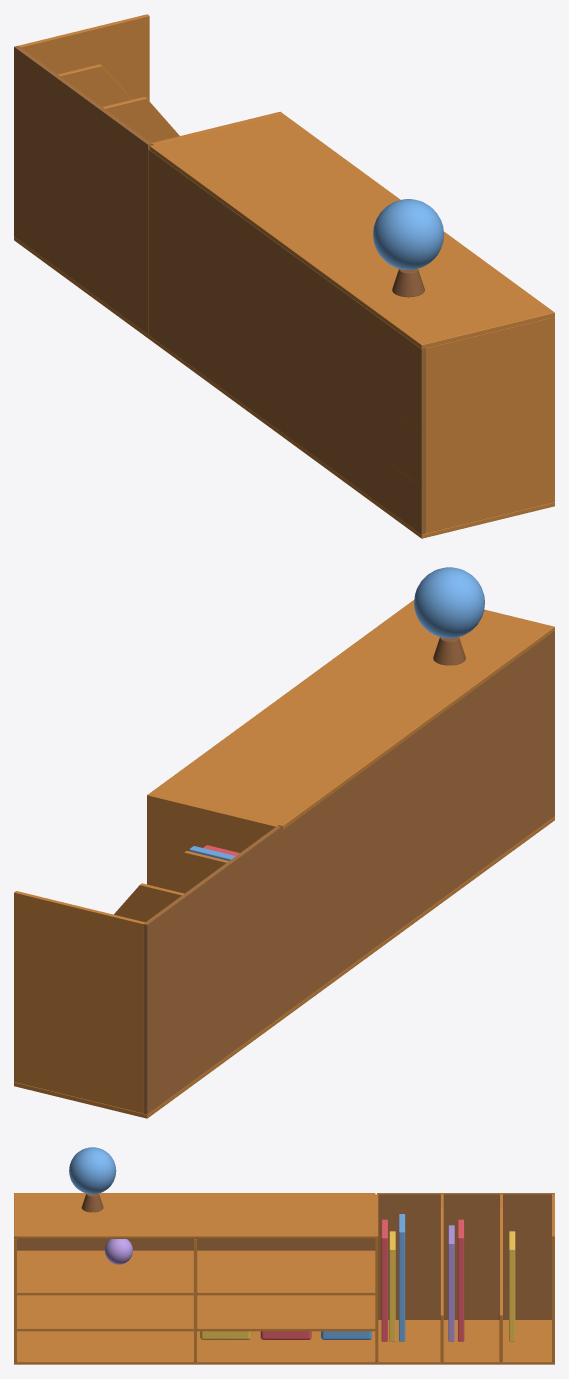
The model's file is cabinet_right.glb.
The picture shows the model from 3 angles, top to bottom: view 1: azimuth 30°, elevation 25°; view 2: azimuth 150°, elevation 25°; view 3: azimuth 270°, elevation 25°; orthographic projection. The views are drawn at different scales.
Parts seen in each view (by area): view 1: RCab_Back4.001, RCab_Board14.001, RCab_Back3.001, RCab_Panel13.001, RCab_Panel1.001, CabGlobe.001, RCab_Board2.001, RCab_Slant6.001, RCab_Slant5.001, CabGlobeStand.001; view 2: RCab_Back4.001, RCab_Board14.001, RCab_Back3.001, RCab_Panel1.001, RCab_Panel7.001, CabGlobe.001, RCab_Board2.001, RCab_Slant6.001, RCab_Slant5.001, CabGlobeStand.001; view 3: RCab_Back3.001, RCab_Board2.001, RCab_Board14.001, RCab_Board9.001, RCab_Board12.001, RCab_Board8.001, RCab_Board11.001, RCab_Back4.001, CabGlobe.001, SlantBook_2.001, SlantBook_0.001, SlantBook_4.001 (+14 smaller).
Part boxes in pixels (box(x1,y1,x2,y2)): RCab_Back4.001: box(148, 149, 425, 534); RCab_Board14.001: box(149, 113, 554, 348); RCab_Back3.001: box(14, 46, 152, 333); RCab_Panel13.001: box(425, 316, 554, 533); RCab_Panel1.001: box(18, 14, 149, 100); CabGlobe.001: box(373, 199, 443, 269); RCab_Board2.001: box(14, 236, 554, 538); RCab_Slant6.001: box(102, 96, 179, 142); RCab_Slant5.001: box(58, 64, 131, 106); CabGlobeStand.001: box(392, 268, 424, 297); RCab_Back4.001: box(281, 631, 554, 1015); RCab_Board14.001: box(150, 600, 554, 829); RCab_Back3.001: box(143, 826, 281, 1114); RCab_Panel1.001: box(14, 891, 144, 1113); RCab_Panel7.001: box(147, 793, 278, 886); CabGlobe.001: box(414, 567, 484, 638); RCab_Board2.001: box(14, 816, 554, 1118); RCab_Slant6.001: box(155, 850, 228, 893); RCab_Slant5.001: box(114, 883, 183, 922); CabGlobeStand.001: box(433, 637, 465, 665); RCab_Back3.001: box(377, 1193, 554, 1319); RCab_Board2.001: box(14, 1320, 554, 1364); RCab_Board14.001: box(14, 1193, 375, 1238); RCab_Board9.001: box(197, 1250, 375, 1295); RCab_Board12.001: box(16, 1250, 193, 1295); RCab_Board8.001: box(197, 1295, 375, 1331); RCab_Board11.001: box(16, 1295, 193, 1331); RCab_Back4.001: box(17, 1239, 375, 1250); CabGlobe.001: box(69, 1147, 116, 1194); SlantBook_2.001: box(399, 1214, 405, 1341); SlantBook_0.001: box(381, 1219, 387, 1341); SlantBook_4.001: box(458, 1219, 464, 1341).
Bounding box in the file's own units: 1.3 × 2.62 × 6.88.
